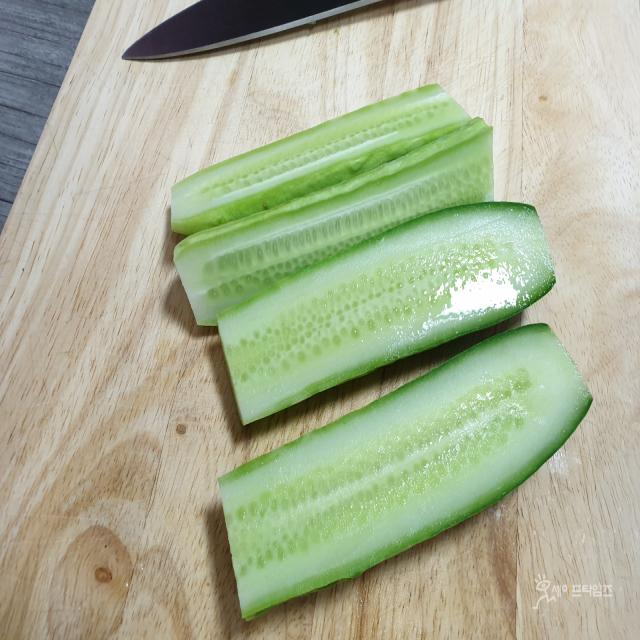cucumber: (138, 93, 600, 626), (173, 320, 622, 615), (153, 110, 521, 358), (209, 185, 557, 414)
